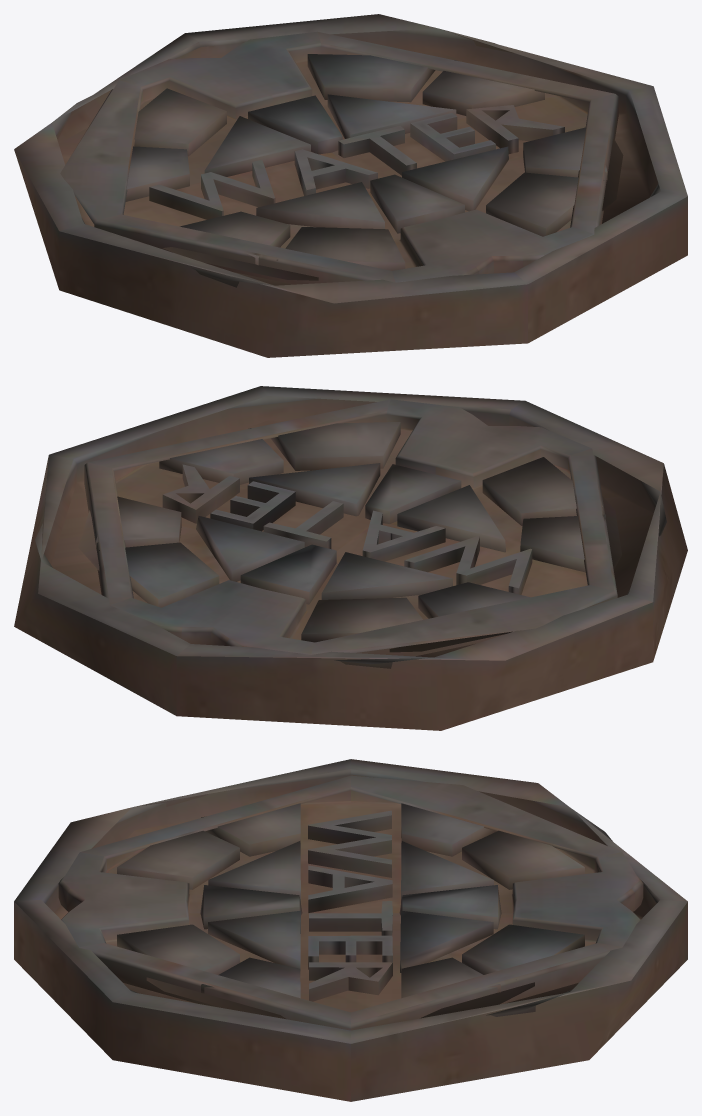
File: water_manhole_cover.glb
The picture shows the model from 3 angles, top to bottom: view 1: azimuth 30°, elevation 25°; view 2: azimuth 150°, elevation 25°; view 3: azimuth 270°, elevation 25°; orthographic projection. The views are drawn at different scales.
Parts seen in each view (by area): view 1: water_manhole_cover_frame; view 2: water_manhole_cover_frame; view 3: water_manhole_cover_frame.
Part boxes in pixels (x1,y1,x2,y2): water_manhole_cover_frame: [14, 14, 687, 357]; water_manhole_cover_frame: [14, 386, 687, 730]; water_manhole_cover_frame: [14, 759, 687, 1101].
Bounding box in the file's own units: 0.6908 × 0.0676 × 0.6908.
1 material, 1 textured.
